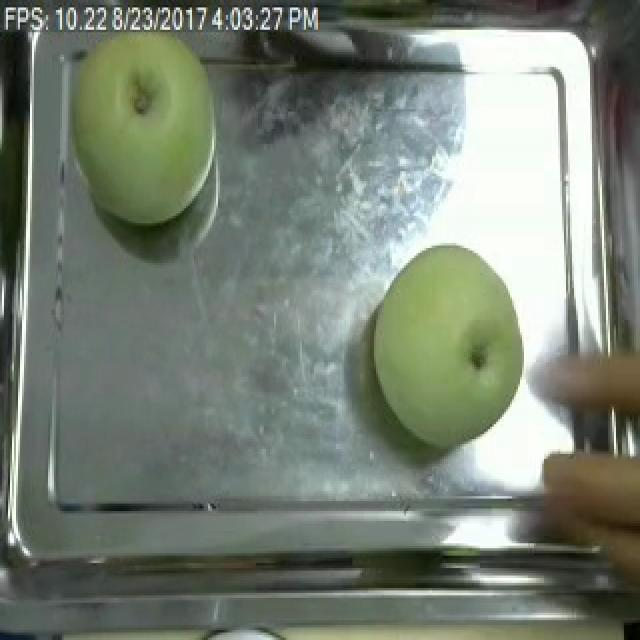50-_ripeness: (366, 234, 534, 449), (65, 32, 227, 230)
